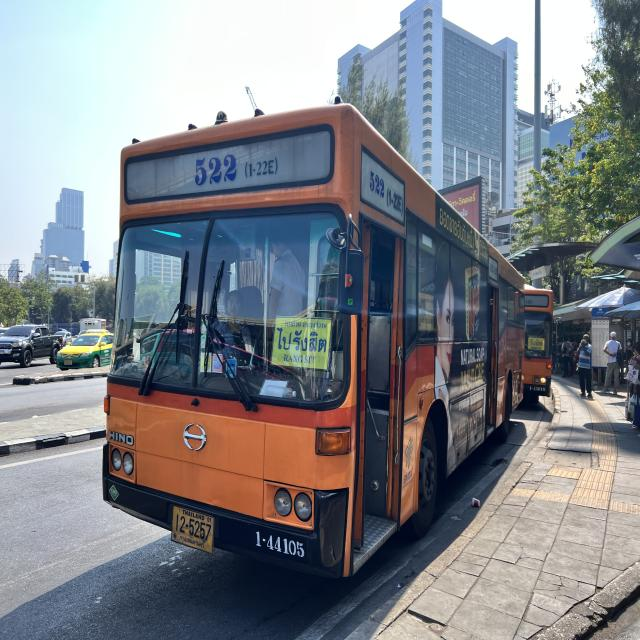BMTA-bus: (100, 105, 525, 582), (517, 275, 556, 422)
Bus-Line-Number: (188, 151, 280, 193)
Destination-Sign-Normal-Expressway: (271, 315, 331, 370)
